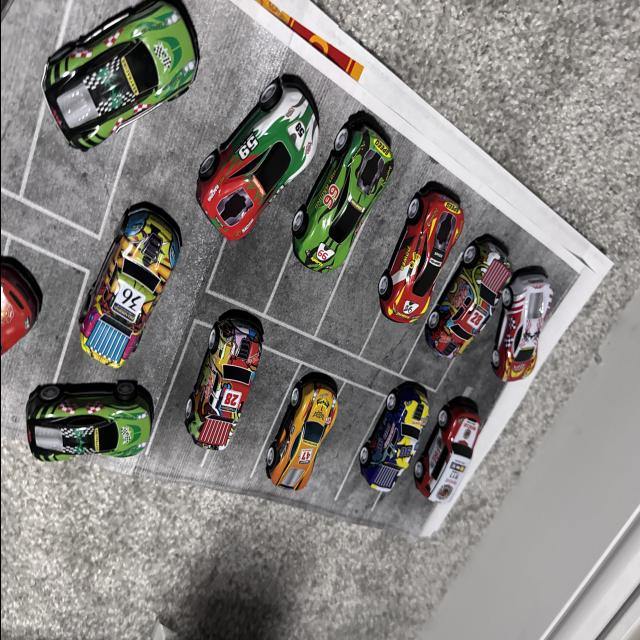car: (178, 284, 332, 640), (12, 368, 172, 604), (196, 41, 349, 252), (52, 195, 194, 382), (40, 0, 196, 154), (374, 163, 468, 348), (188, 306, 284, 462), (308, 115, 394, 282), (364, 363, 433, 523), (424, 241, 510, 361), (268, 372, 336, 492), (499, 270, 562, 398), (413, 397, 481, 501), (0, 222, 36, 418)
